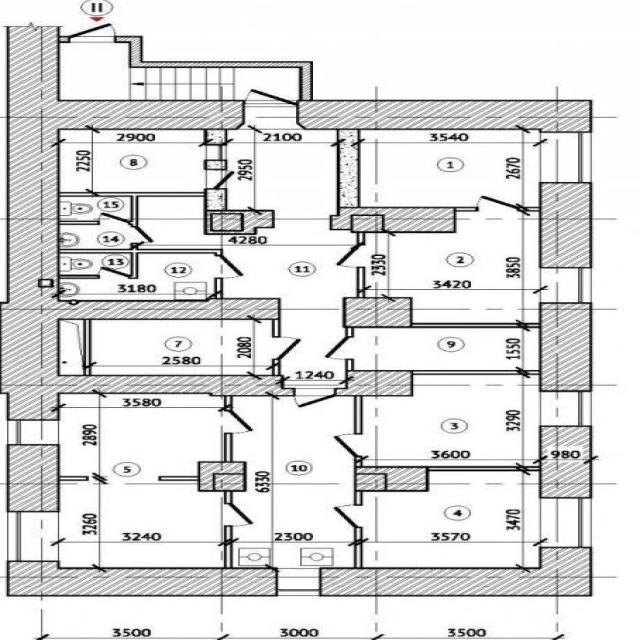Bathrooms: (62, 197, 128, 219), (62, 255, 129, 275), (65, 227, 129, 247)
Corridors: (137, 130, 357, 378), (231, 397, 351, 567), (62, 321, 270, 374), (356, 330, 538, 369), (62, 254, 213, 299), (62, 44, 125, 99)
Doors: (243, 86, 297, 130), (283, 380, 348, 409), (69, 21, 121, 44), (320, 336, 357, 363), (223, 409, 261, 435), (221, 502, 257, 529), (214, 255, 250, 281), (328, 432, 364, 458), (330, 243, 365, 269), (330, 503, 363, 528), (477, 193, 520, 212), (271, 335, 305, 359), (204, 170, 241, 188), (94, 210, 132, 227), (95, 263, 132, 278), (132, 224, 157, 244), (90, 476, 160, 482), (203, 145, 227, 160)
LBwalls: (0, 28, 295, 421), (318, 546, 594, 597), (114, 35, 315, 100), (6, 560, 278, 598), (297, 100, 590, 133), (537, 303, 592, 392), (539, 182, 592, 268), (539, 426, 592, 499), (6, 444, 60, 513), (328, 206, 458, 234), (332, 369, 415, 396), (343, 297, 414, 328), (352, 465, 428, 493), (201, 209, 276, 236), (197, 461, 247, 492), (60, 35, 72, 44)
Offices: (369, 213, 538, 321), (364, 473, 538, 567), (363, 375, 540, 464), (61, 483, 222, 567), (61, 395, 223, 476), (363, 132, 539, 206), (61, 132, 204, 191)
Stairs: (127, 69, 297, 100)
Walls: (61, 242, 224, 278), (60, 191, 207, 228), (337, 130, 358, 207), (429, 465, 539, 472), (414, 322, 540, 328), (414, 369, 538, 375), (204, 188, 228, 209), (204, 129, 227, 146), (223, 525, 231, 568), (356, 267, 367, 298), (354, 526, 362, 567), (355, 396, 363, 434), (223, 433, 234, 460), (204, 159, 227, 170), (60, 220, 100, 226), (60, 274, 99, 280), (214, 277, 224, 299), (159, 476, 197, 481), (354, 490, 363, 506), (271, 358, 280, 374), (224, 397, 234, 411), (61, 476, 88, 481), (457, 206, 479, 212), (518, 206, 539, 212), (274, 320, 281, 337), (224, 493, 233, 506), (352, 456, 364, 465)
Windows: (540, 132, 592, 182), (539, 497, 591, 547), (7, 512, 59, 561), (538, 269, 590, 303), (540, 392, 592, 426), (7, 420, 59, 443), (277, 569, 318, 596)
